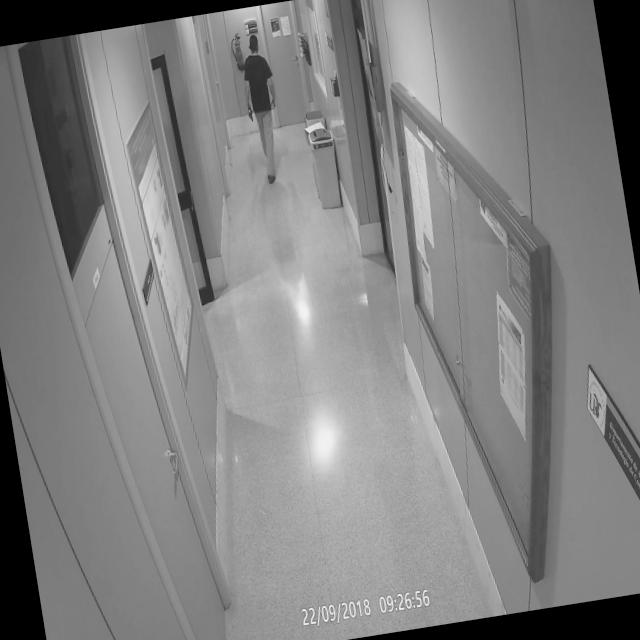gun: (242, 100, 256, 130)
person with a gun: (232, 26, 287, 189)
